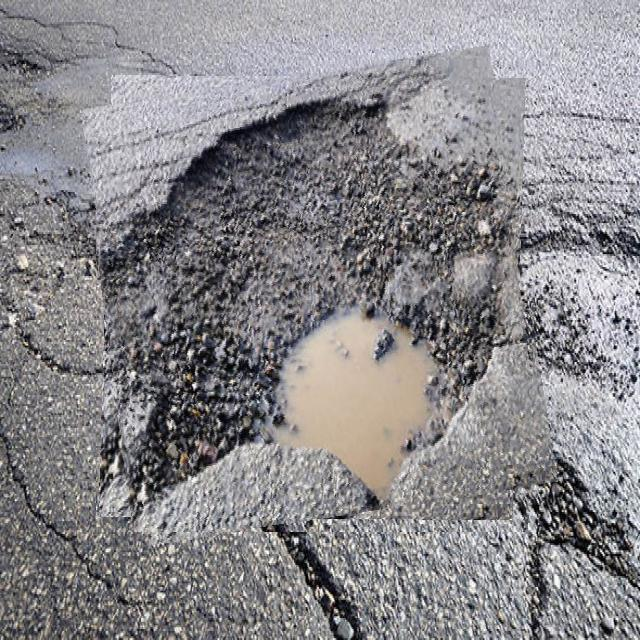Pothole: (96, 60, 542, 532)
